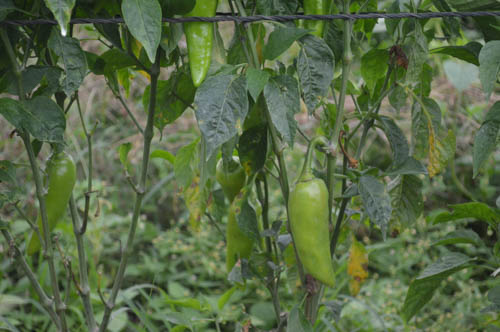ChiliPepper: (288, 180, 339, 291), (31, 160, 78, 260), (222, 197, 262, 267), (182, 3, 214, 89), (215, 161, 247, 194)
